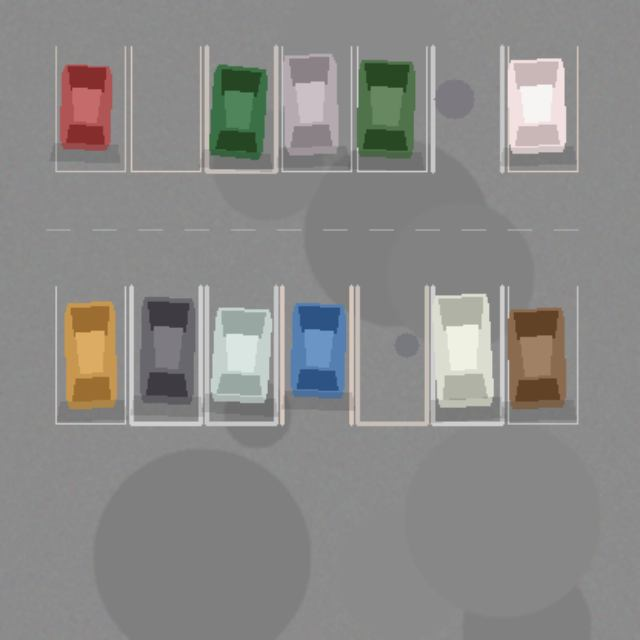space-empty: (357, 286, 426, 423), (432, 46, 502, 171), (131, 46, 200, 171)
space-occupied: (55, 286, 125, 423), (432, 286, 502, 423), (131, 286, 200, 423), (206, 286, 275, 423), (282, 286, 351, 423), (508, 286, 577, 423), (55, 46, 125, 171), (206, 46, 275, 171), (282, 46, 351, 171), (357, 46, 426, 171), (508, 46, 577, 171)
